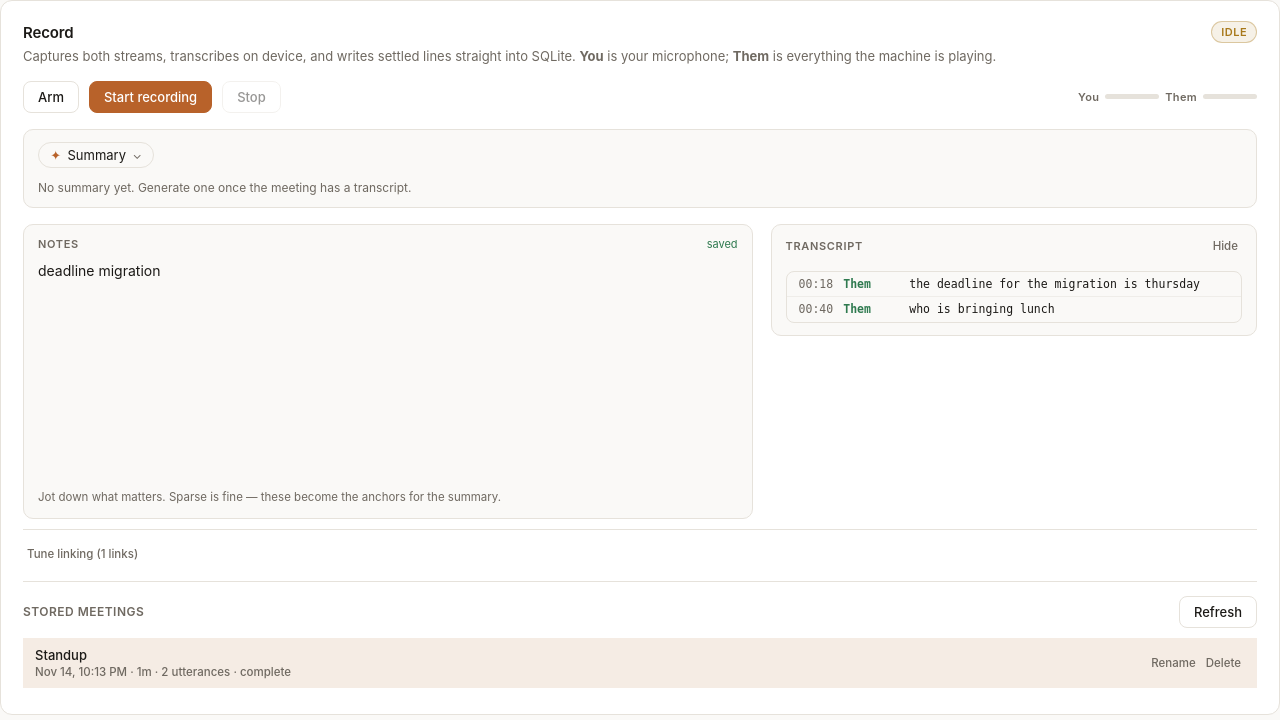
Test case: RecordCard linking (G18) › lights the linked note when a transcript line is hovered
The image size is (1280, 720).
Hover over the text "00:18 Them the deadline for the migration is thursday": (1014, 284) [787,272,1241,298]
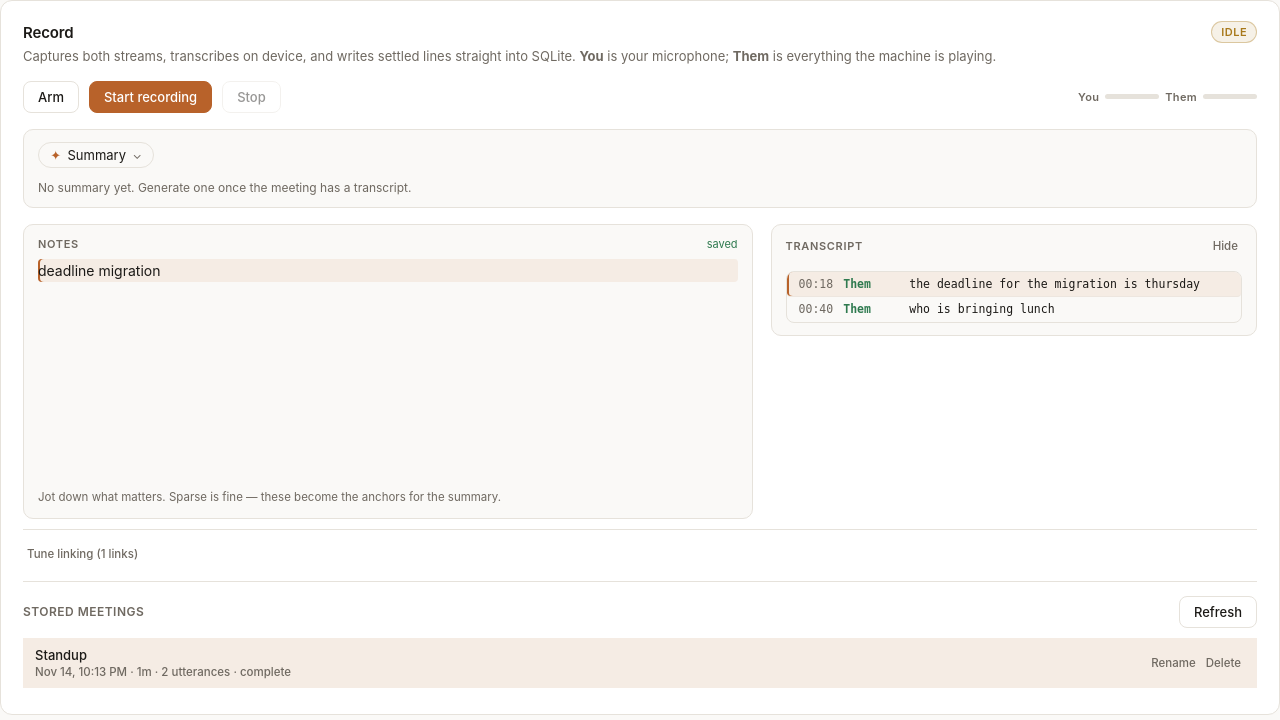
Result: the text box with class "note-block--linked" is shown at [38,258,738,282]
